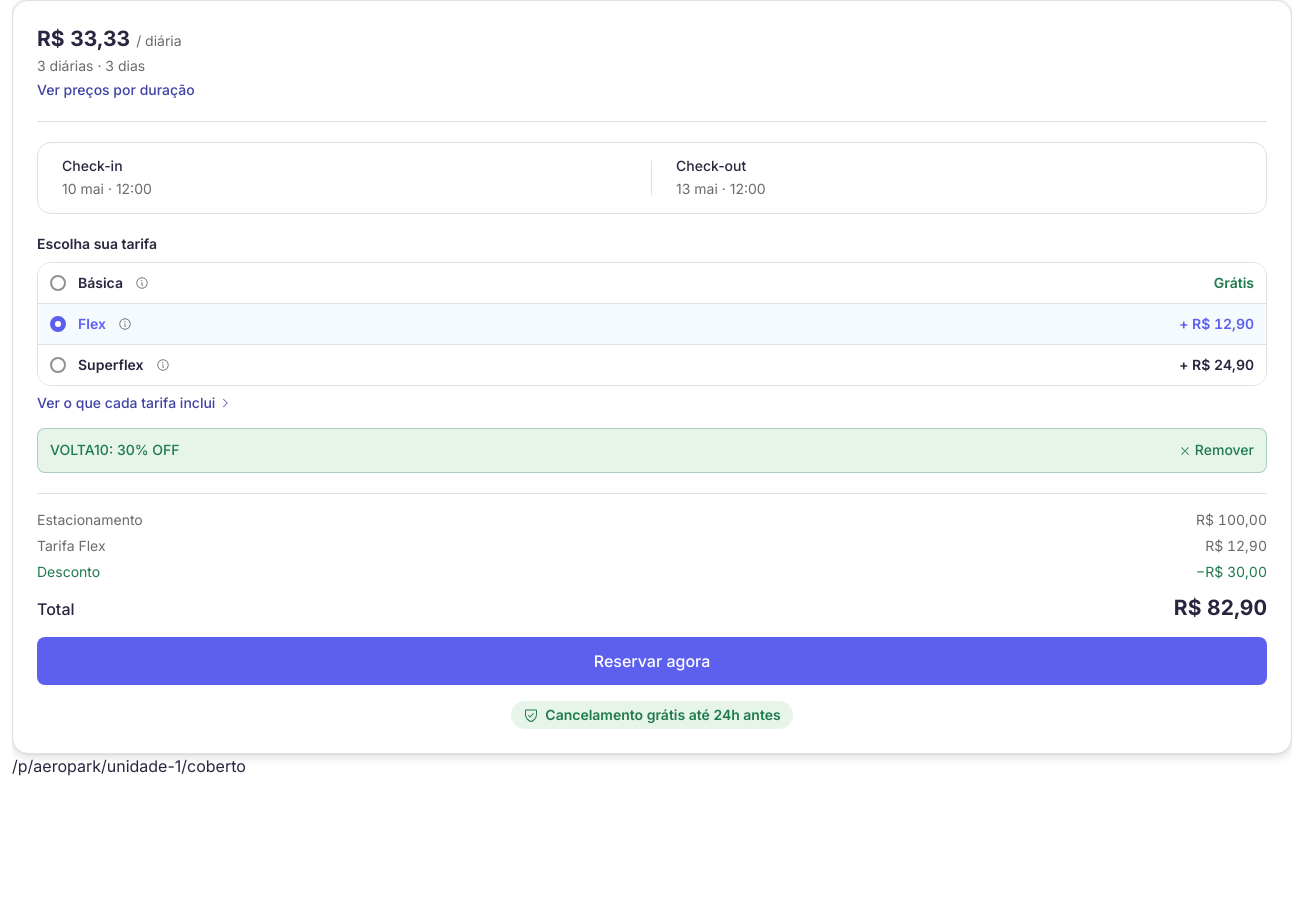
Test case: ReservationCard — quem não é cliente vai pro login, não pro toast › deslogado: clicar em reservar leva ao /login com a ficha como next
Click the button "Reservar agora".
click(652, 661)  # box [37,637,1267,685]
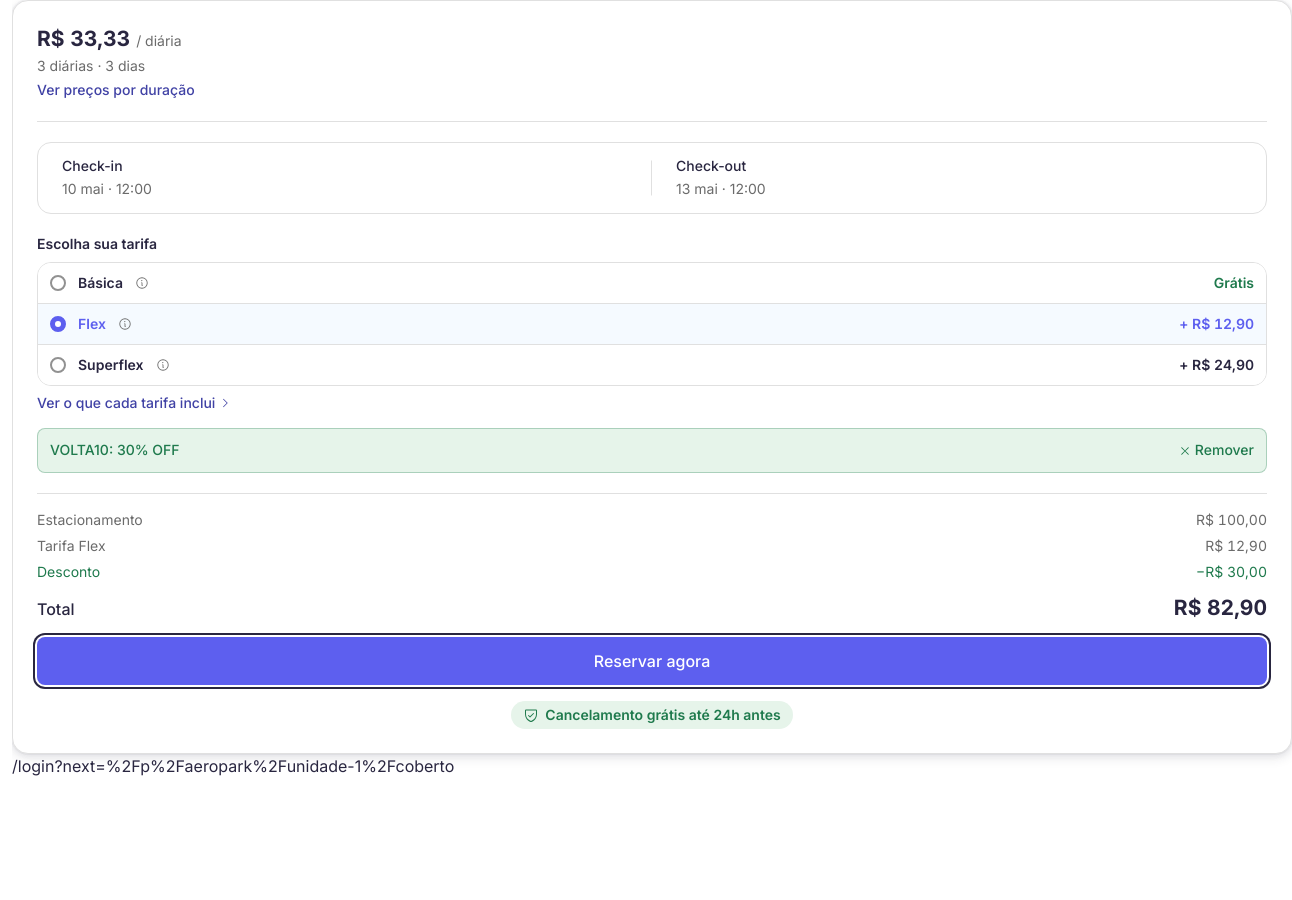
Expected: the text with test id "loc" shows "/login?next=", [12,756,454,776]
